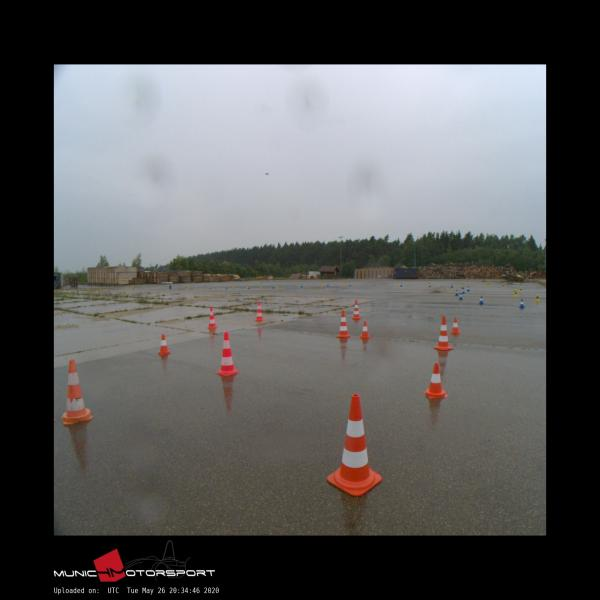blue_cone: (519, 298, 525, 308), (479, 295, 484, 304), (459, 292, 463, 300), (455, 289, 458, 296), (462, 288, 465, 294), (467, 286, 470, 291)
large_orange_cone: (327, 394, 381, 495), (61, 359, 92, 424), (215, 332, 239, 376), (434, 316, 452, 350), (336, 310, 350, 336), (254, 302, 264, 320), (208, 306, 216, 327), (352, 299, 360, 318)
orange_cone: (423, 363, 448, 397), (158, 334, 170, 354), (359, 321, 370, 337), (451, 319, 460, 333)
yellow_cone: (535, 294, 540, 302), (514, 290, 518, 297), (519, 287, 523, 292)
